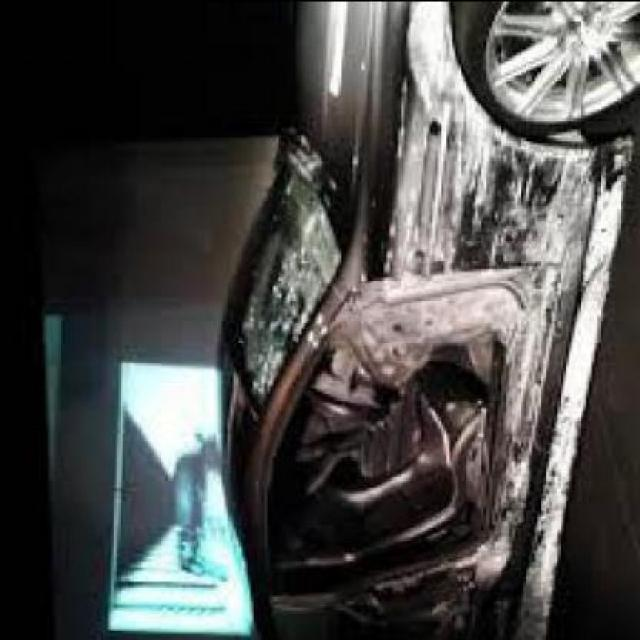damage: (250, 5, 627, 640)
